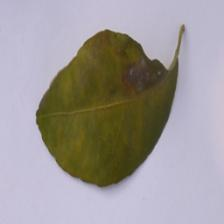black spot: (113, 33, 168, 93)
